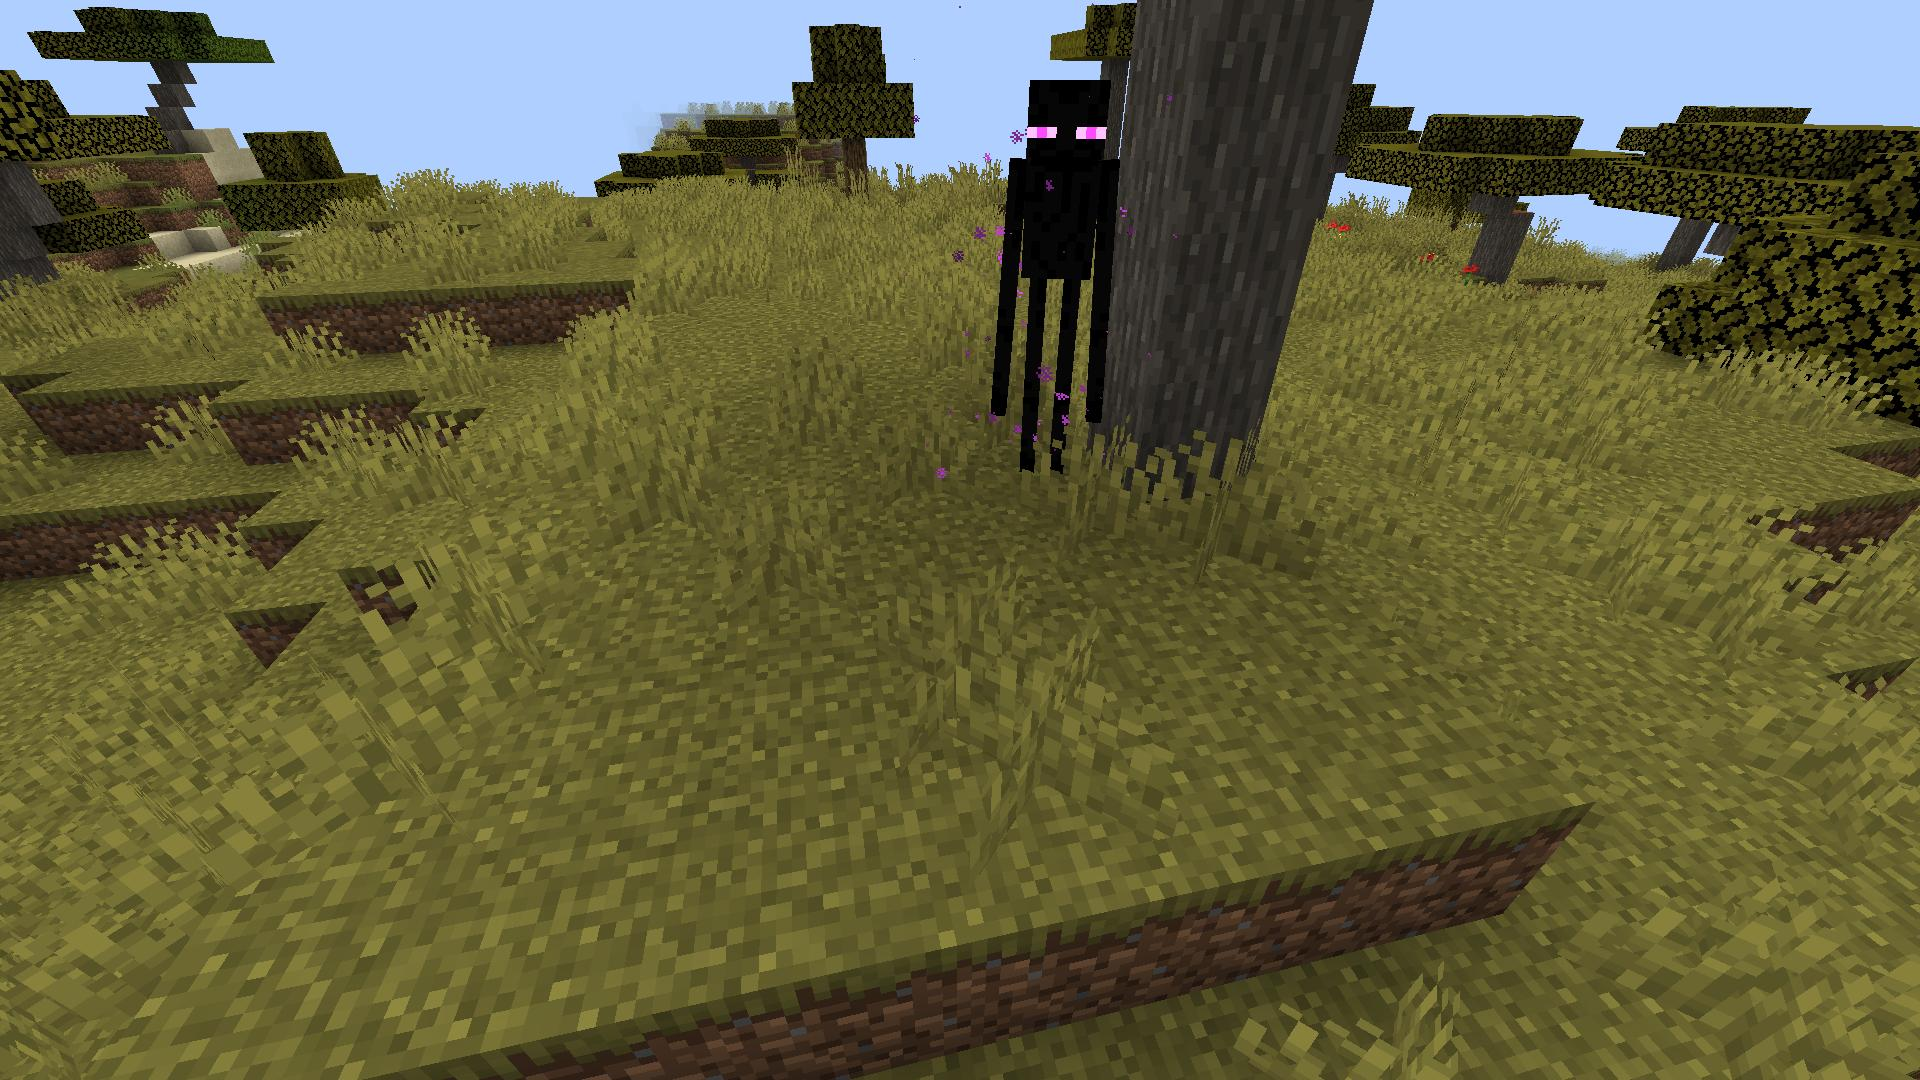enderman: (980, 62, 1127, 502)
